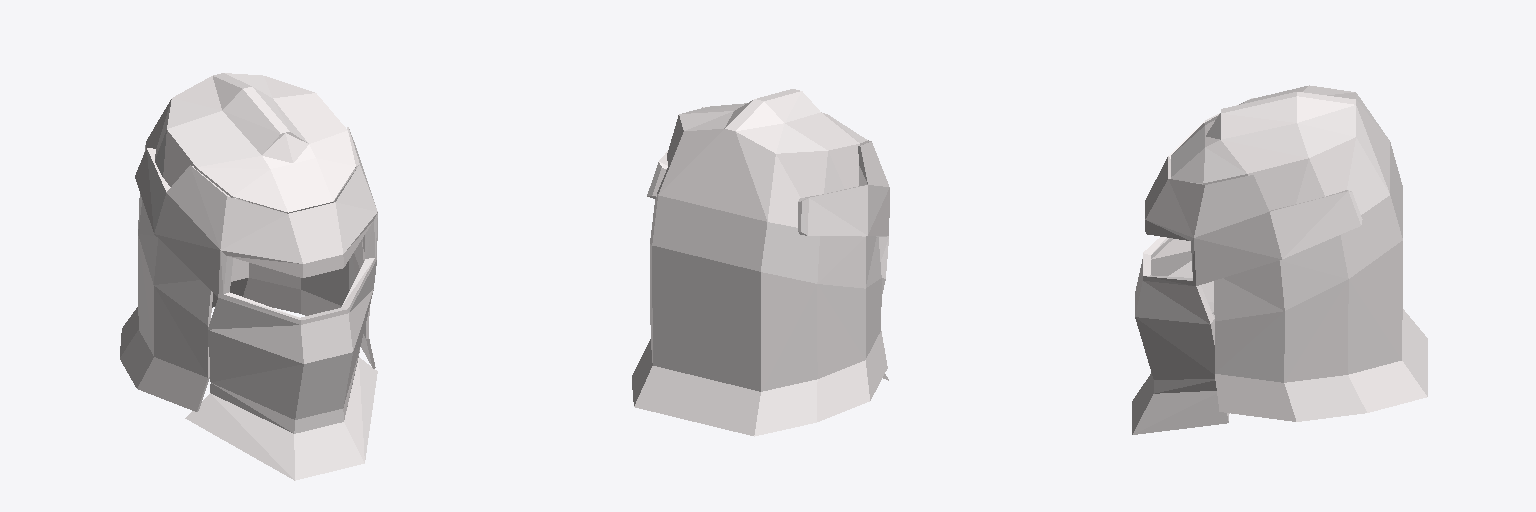
Rendered from helm.obj.
3 views of the same model, side by side, from view 1: azimuth 30°, elevation 25°; view 2: azimuth 150°, elevation 25°; view 3: azimuth 270°, elevation 25° (orthographic).
Visible parts, largest first — view 1: hlelm_out; view 2: hlelm_out; view 3: hlelm_out.
Part boxes in pixels (left/top/right/bottom): hlelm_out: left=120, top=73, right=377, bottom=480; hlelm_out: left=632, top=89, right=889, bottom=436; hlelm_out: left=1132, top=85, right=1427, bottom=434.
Size of the model in its own units: 0.3699 by 0.5174 by 0.4275.